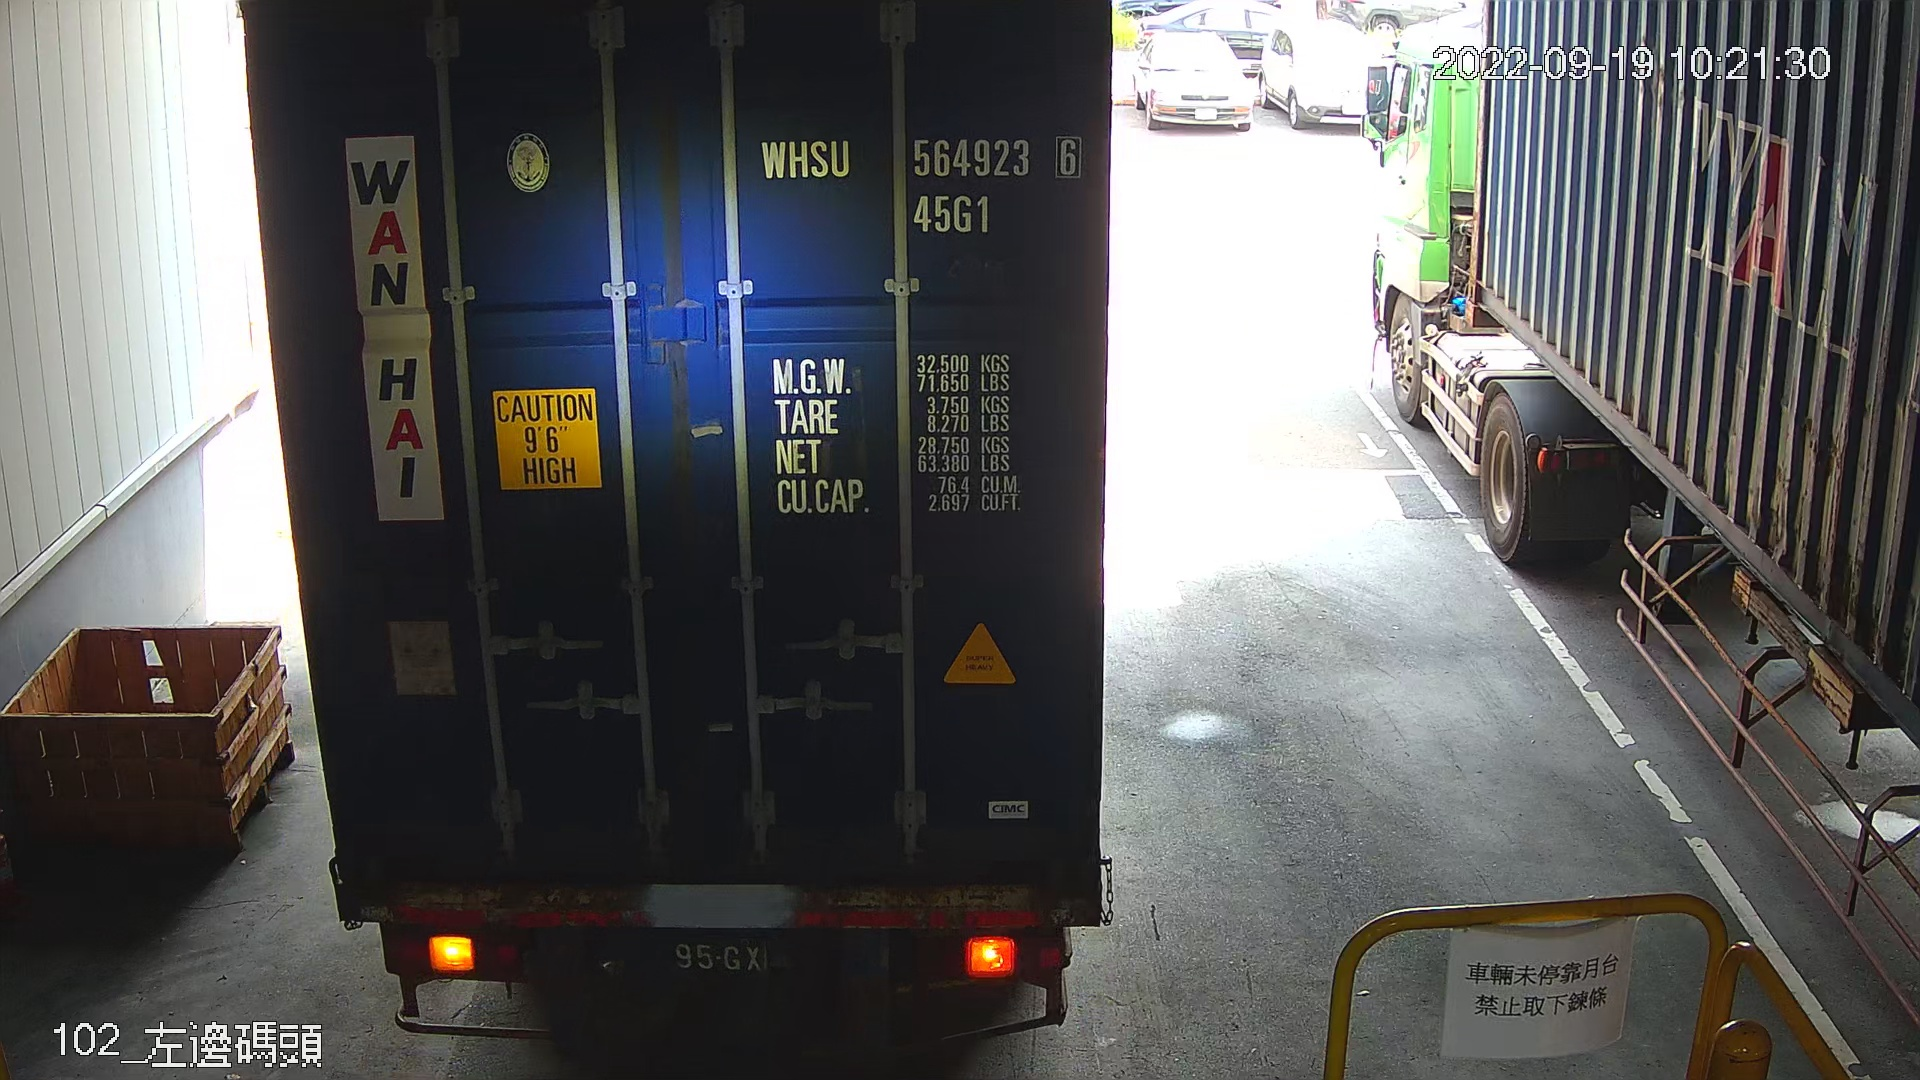container: (745, 124, 1091, 245)
